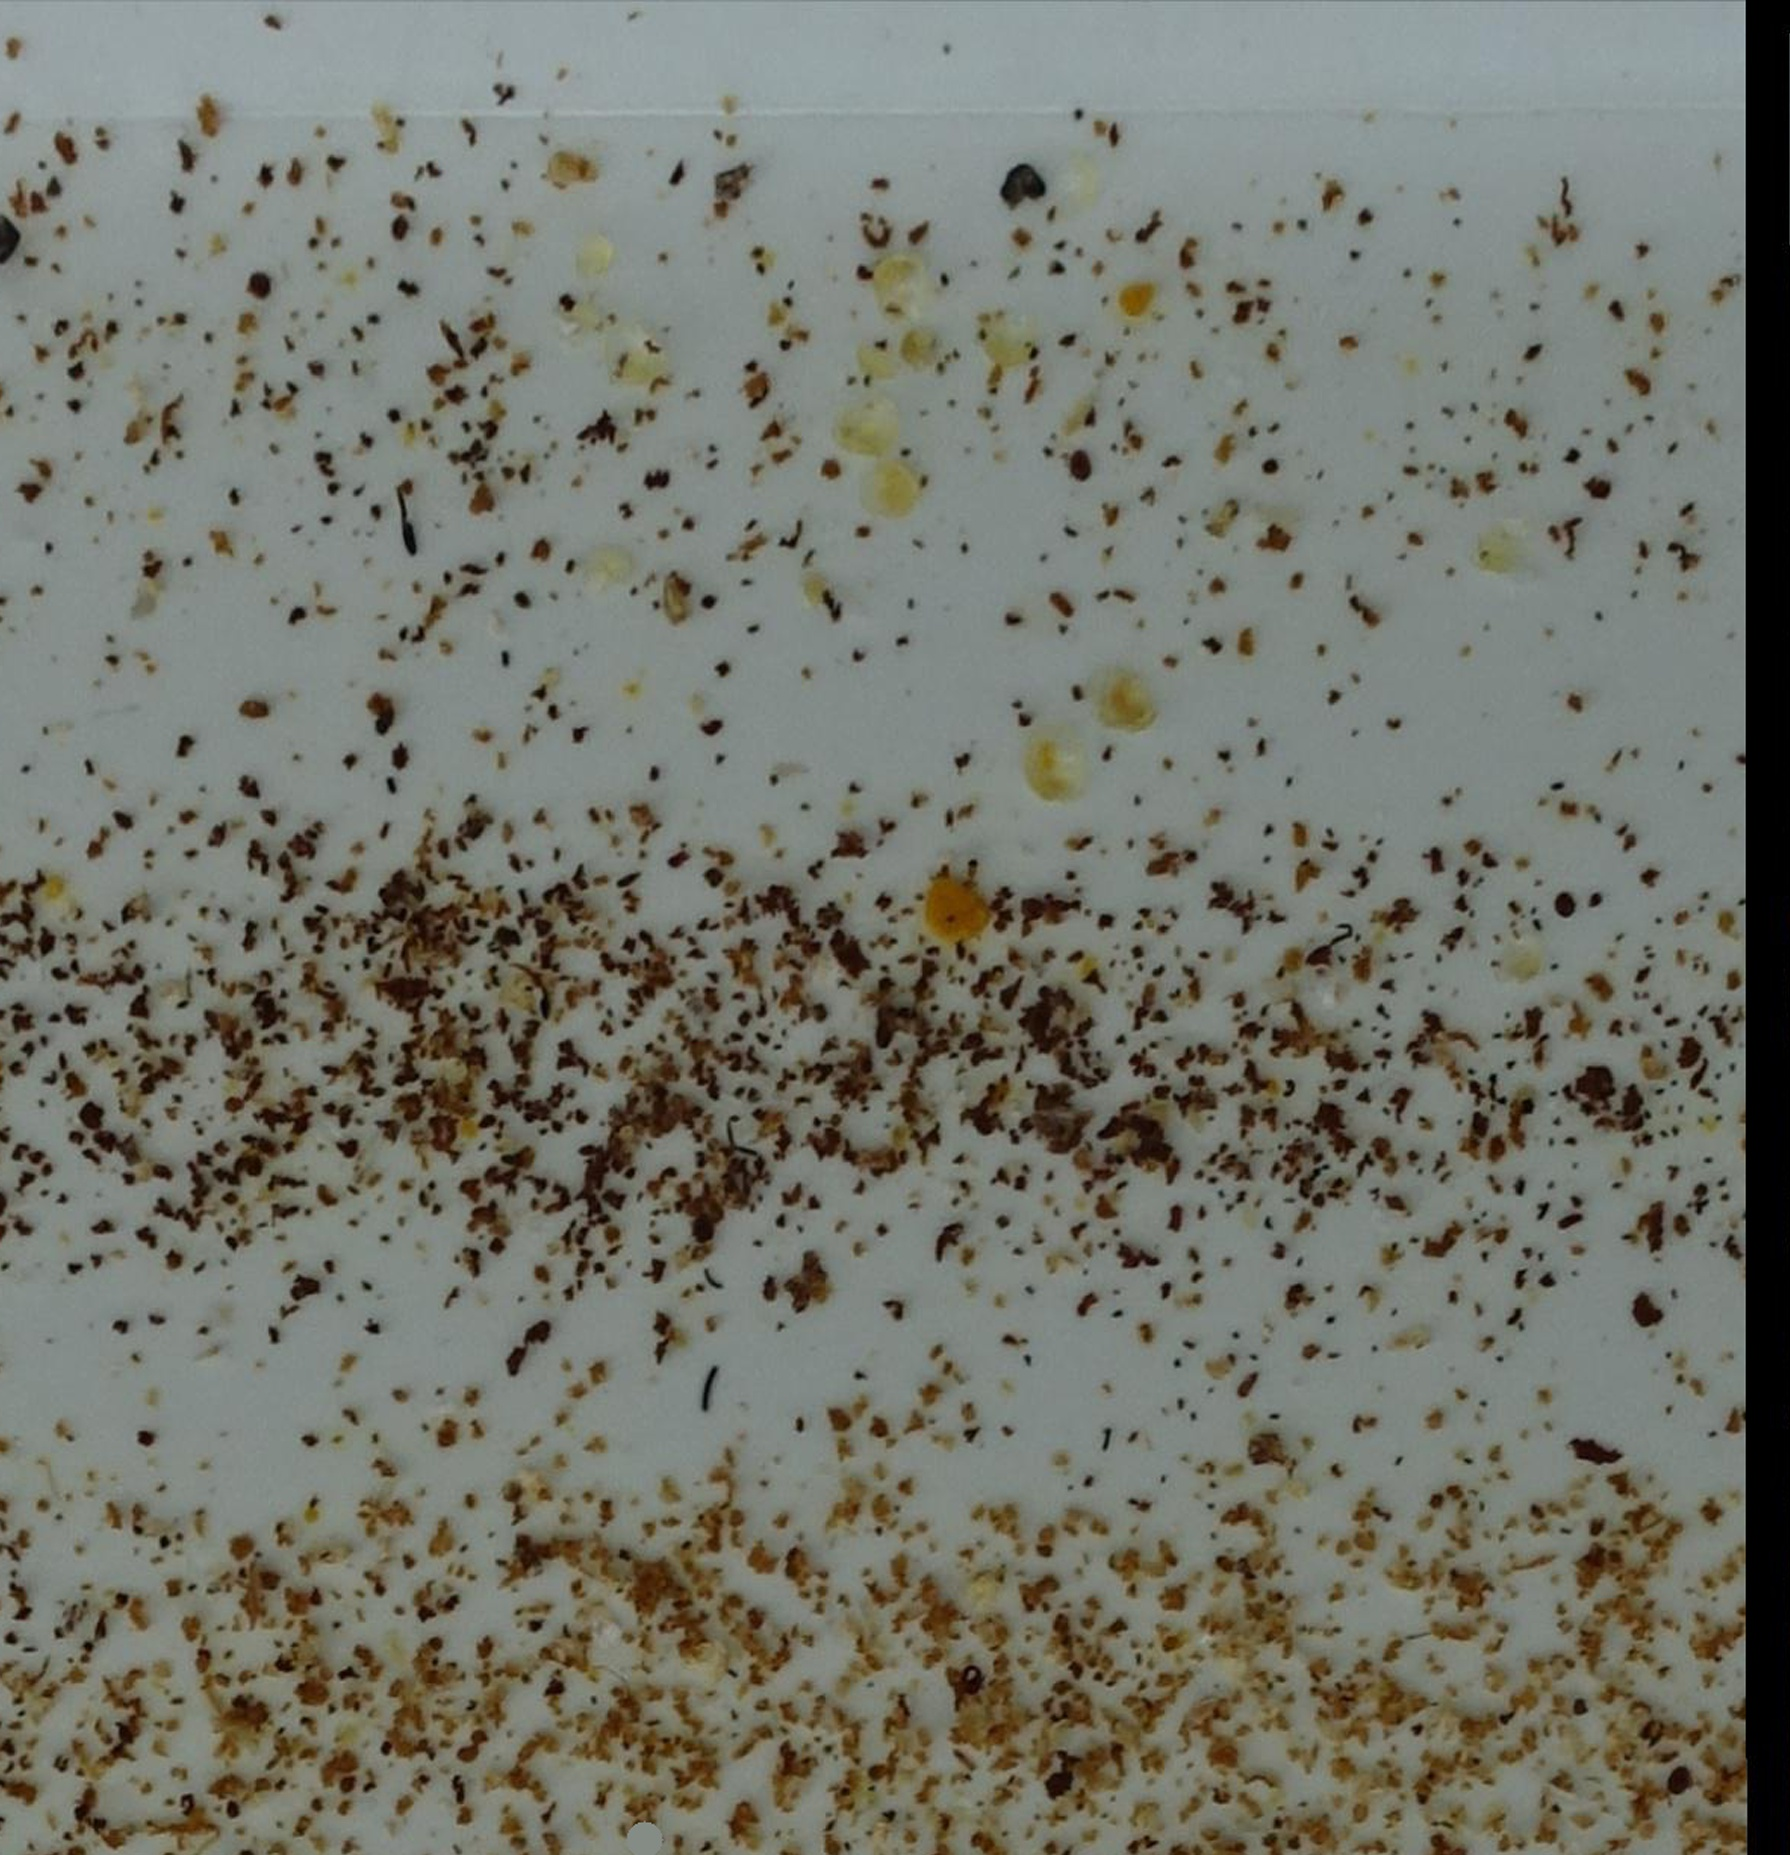Varroa: (681, 1206, 724, 1250), (964, 1098, 1007, 1143), (238, 263, 281, 306), (1629, 1713, 1672, 1756), (1550, 891, 1580, 923), (957, 1665, 985, 1693), (1065, 459, 1091, 485), (1661, 1764, 1687, 1790)
